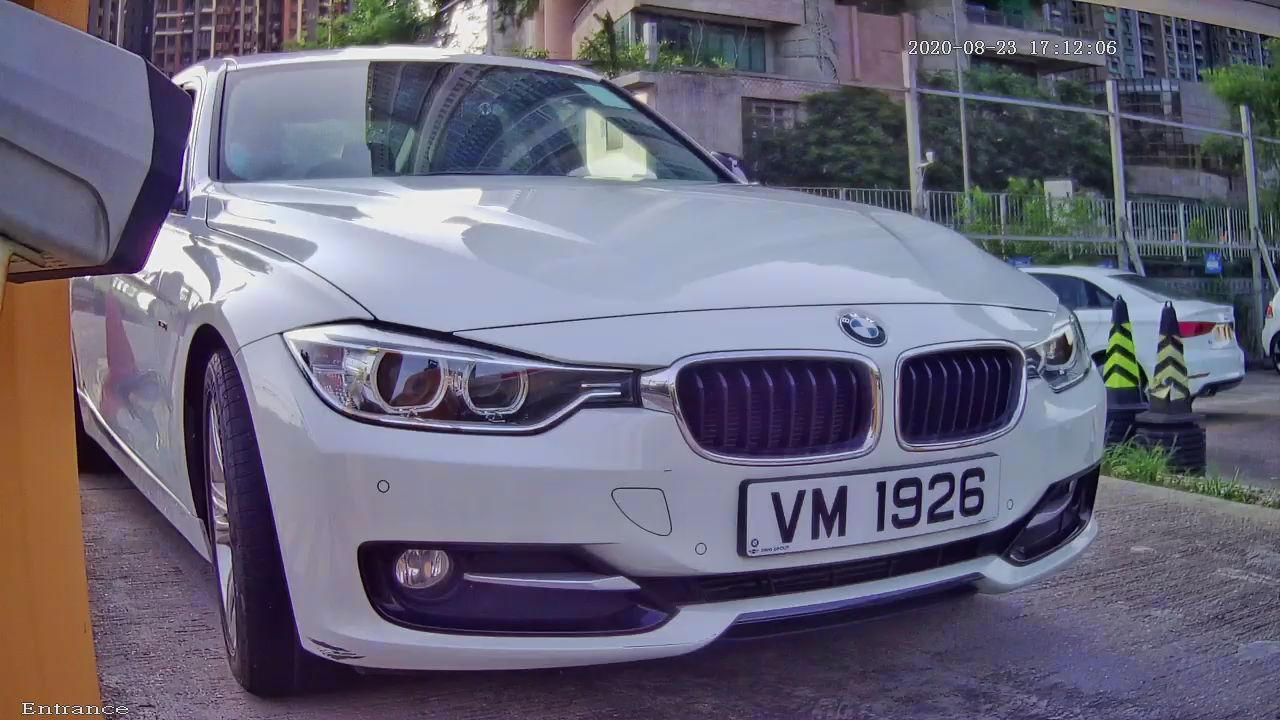Car: (18, 10, 1235, 714)
License Plate: (687, 416, 1053, 604)
